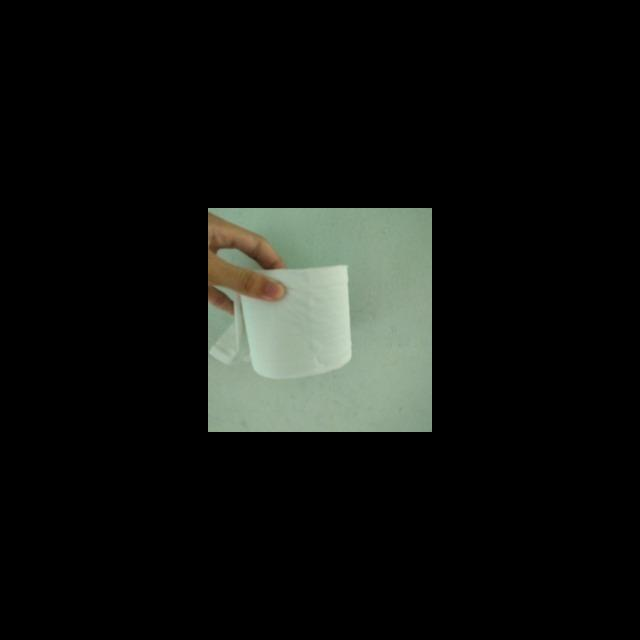paper: (208, 247, 361, 399)
